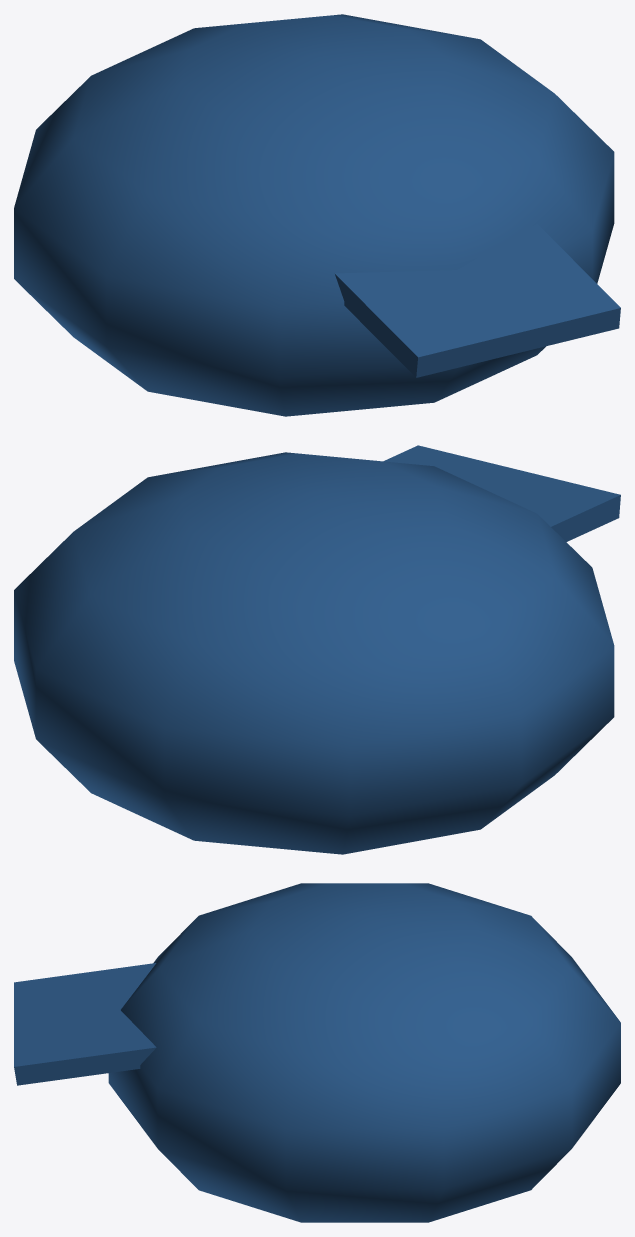
Rendered from person-cap.glb.
3 renders of one model, top to bottom at view 1: azimuth 30°, elevation 25°; view 2: azimuth 150°, elevation 25°; view 3: azimuth 270°, elevation 25°, orthographic. The views are drawn at different scales.
Visible parts, largest first — view 1: 00_#2c5a8a_r110; view 2: 00_#2c5a8a_r110; view 3: 00_#2c5a8a_r110.
Part boxes in pixels (bbox=[...]): 00_#2c5a8a_r110: bbox=[14, 14, 620, 416]; 00_#2c5a8a_r110: bbox=[14, 445, 620, 854]; 00_#2c5a8a_r110: bbox=[14, 883, 620, 1222].
Bounding box in the file's own units: 0.6008 × 0.36 × 0.7278.
